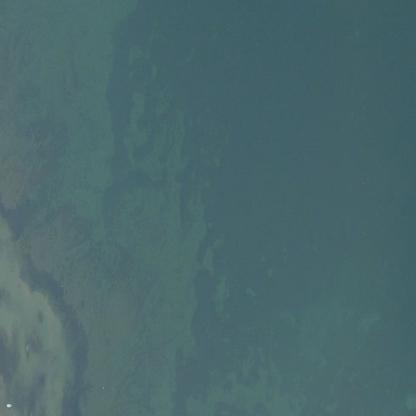ship: (6, 401, 12, 407)
